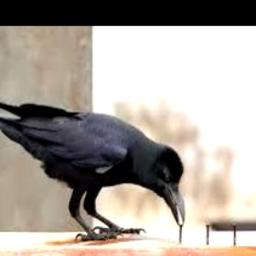Crow: (0, 96, 184, 242)
